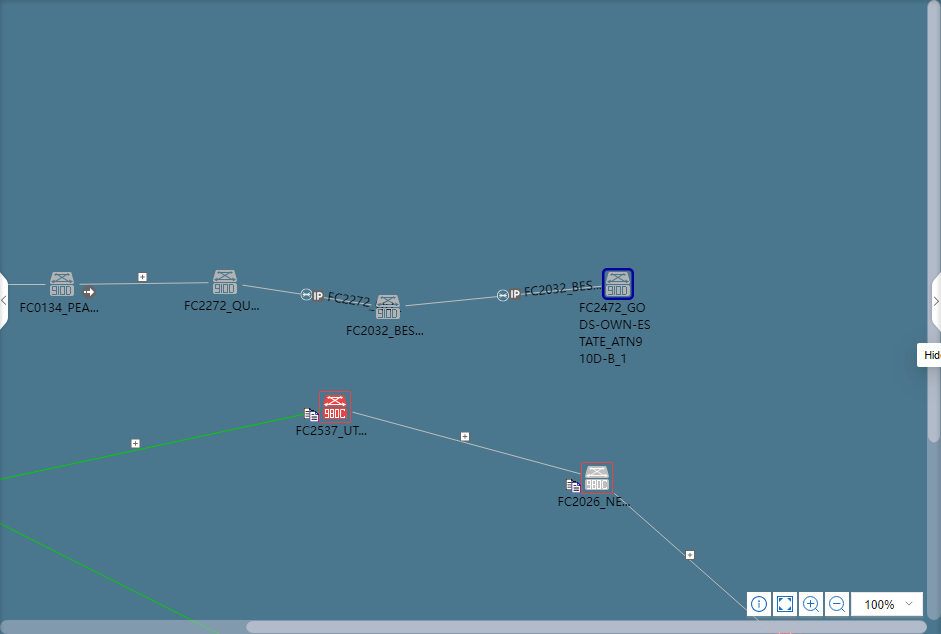ATN_Gray: (603, 273, 637, 301), (585, 467, 613, 495), (373, 296, 401, 324), (215, 267, 243, 293), (50, 273, 78, 295)
ATN_Red: (321, 396, 347, 424)
Link_Gray: (615, 490, 748, 613), (350, 408, 584, 477), (409, 285, 582, 304), (265, 285, 369, 304), (79, 279, 213, 289)
Link_Green: (3, 520, 225, 634), (3, 414, 290, 483)
